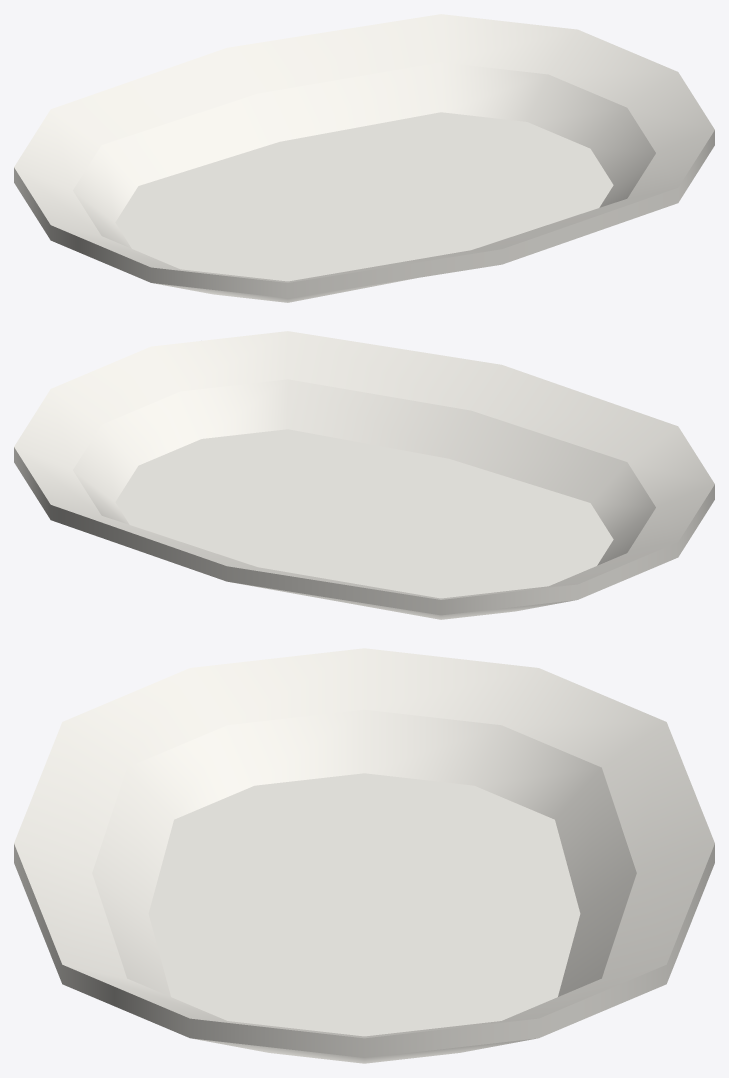
File: SM_Platter_01.fbx
3 views of the same model, one above another, from view 1: azimuth 30°, elevation 25°; view 2: azimuth 150°, elevation 25°; view 3: azimuth 270°, elevation 25° (orthographic). The views are drawn at different scales.
Parts seen in each view (by area): view 1: SM_Platter_01; view 2: SM_Platter_01; view 3: SM_Platter_01.
Part boxes in pixels (x1,y1,x2,y2): SM_Platter_01: [14, 14, 714, 302]; SM_Platter_01: [14, 331, 714, 619]; SM_Platter_01: [14, 648, 714, 1063].
Size of the model in its own units: 25.17 by 2.77 by 19.11.
